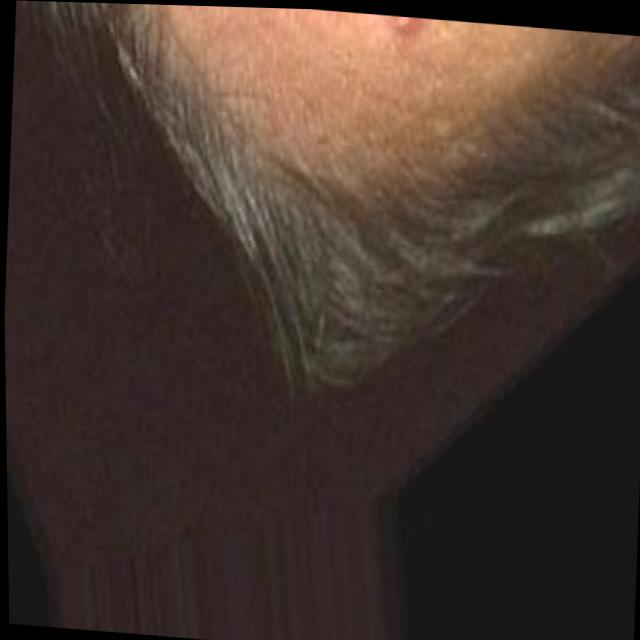Rosacea: (356, 13, 465, 54)
